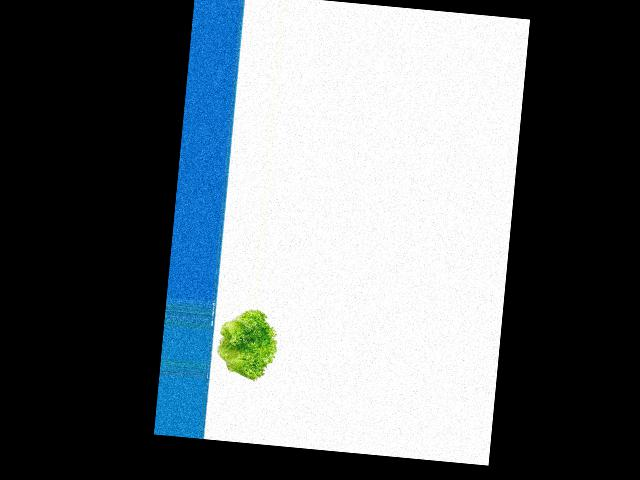lettuce: (210, 305, 282, 380)
